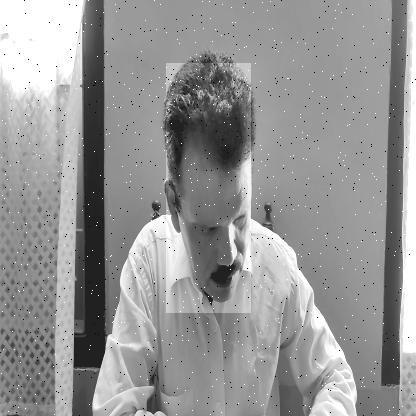Distracted: (166, 64, 251, 314)
